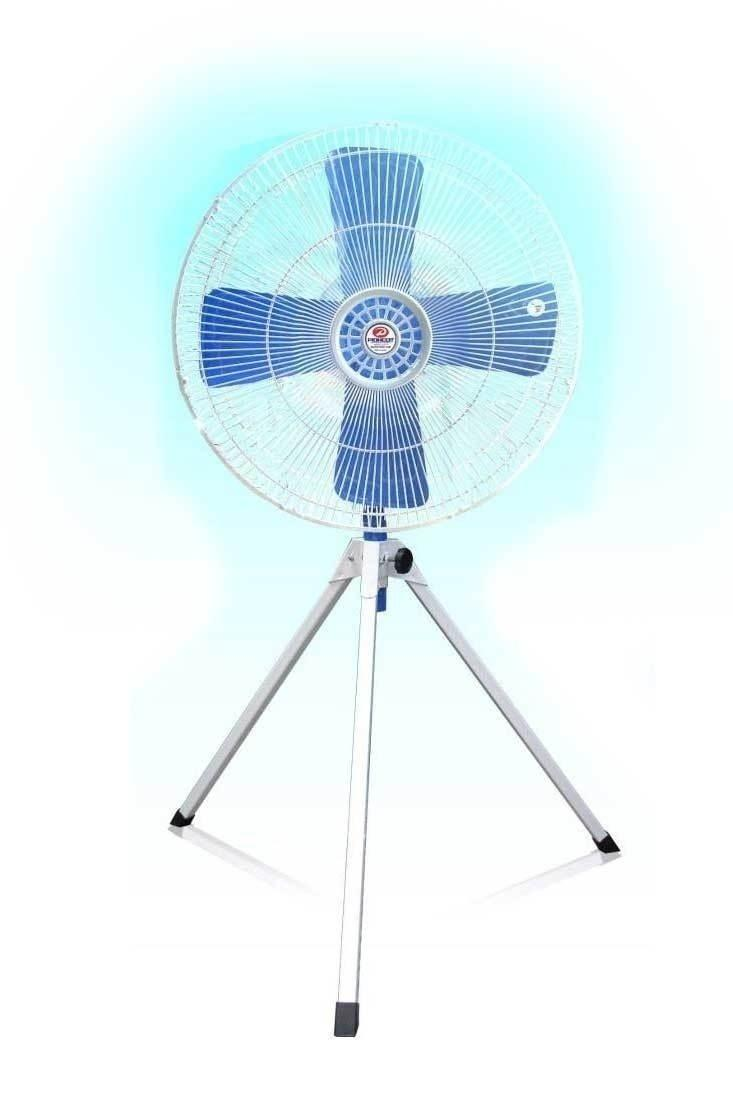fan: (132, 103, 643, 1055)
